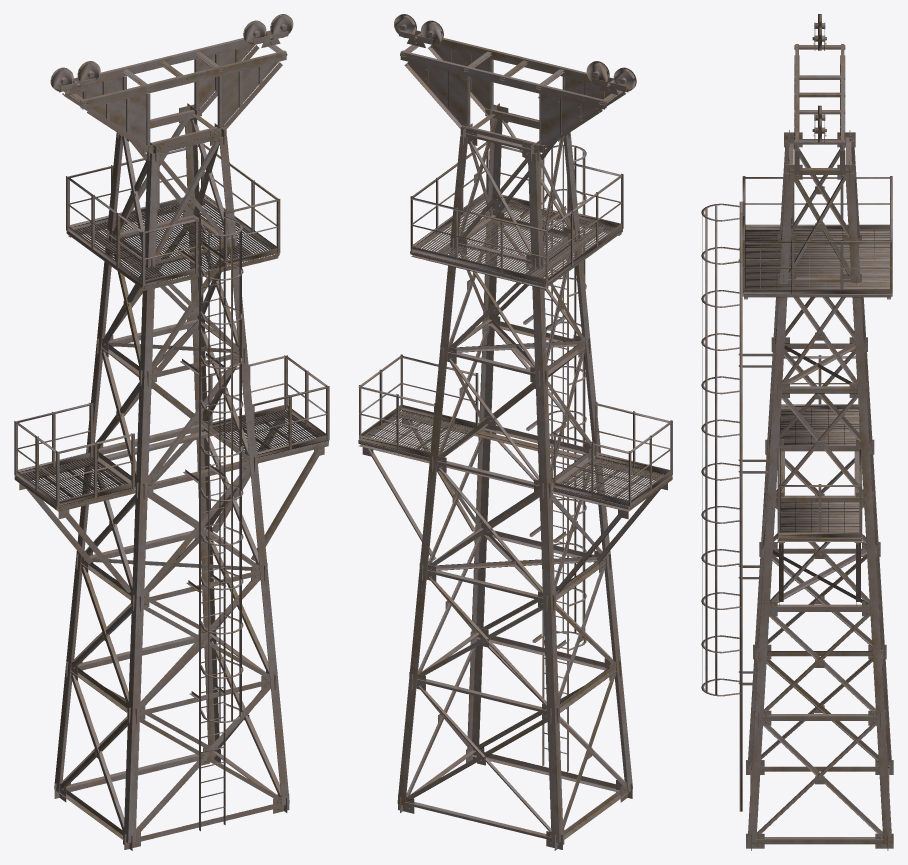
File: CablewayTower_Metric15.fbx
The picture shows the model from 3 angles, left to right: view 1: azimuth 30°, elevation 25°; view 2: azimuth 150°, elevation 25°; view 3: azimuth 270°, elevation 25°; orthographic projection. The views are drawn at different scales.
Visible parts, largest first — view 1: CablewayTower_Metric15; view 2: CablewayTower_Metric15; view 3: CablewayTower_Metric15.
Boxes of the visible parts, x1=… form: CablewayTower_Metric15: x1=14, y1=14, x2=329, y2=850; CablewayTower_Metric15: x1=358, y1=14, x2=672, y2=850; CablewayTower_Metric15: x1=701, y1=14, x2=893, y2=850.
Size of the model in its own units: 5.66 by 15.12 by 3.54.
